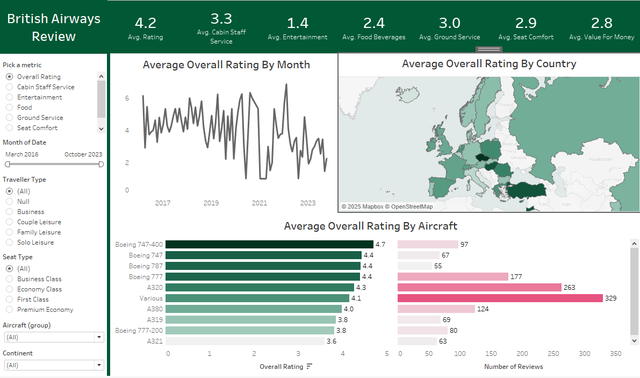

The dashboard page shown, as its layout file describes it:
{"tool":"tableau","page":{"name":"Dashboard 1","canvas":[1200,700],"ordinal":0},"visuals":[{"type":"text","box":[7,0,200,100]},{"type":"worksheet","title":"Summary","mark":"Automatic","box":[207,0,992,100]},{"type":"blank","box":[206,99,6,600]},{"type":"worksheet","title":"Map","mark":"Automatic","box":[637,99,561,295]},{"type":"worksheet","title":"Month","mark":"Automatic","rows":["Calculation_553098373735714816"],"cols":["date"],"box":[224,101,409,291]},{"type":"parameter","param":"[Parameters].[Parameter 1]","box":[8,108,200,144]},{"type":"filter","title":"Map","param":"[federated.1g9hhad0hl09cq17x4x451v04ri1].[tmn:date:qk]","box":[8,252,200,69]},{"type":"filter","title":"Map","param":"[federated.1g9hhad0hl09cq17x4x451v04ri1].[none:traveller_type:nk]","box":[8,321,200,144]},{"type":"worksheet","title":"Aircraft","mark":"Automatic","cols":["Calculation_553098373735714816","ba_reviews.csv_47E9ED6C0392457FB0CF979E640868C3"],"box":[215,401,982,296]},{"type":"filter","title":"Map","param":"[federated.1g9hhad0hl09cq17x4x451v04ri1].[none:seat_type:nk]","box":[8,465,200,127]},{"type":"filter","title":"Map","param":"[federated.1g9hhad0hl09cq17x4x451v04ri1].[Aircraft (group)]","box":[8,592,200,52]},{"type":"filter","title":"Map","param":"[federated.1g9hhad0hl09cq17x4x451v04ri1].[none:Continent:nk]","box":[8,644,200,52]}]}

Visuals, with their boxes in screenshot pixels (x1, y1, x2, y2), scaled from the page's 1200x700 canvas onto the 640x378 screenshot:
text: <region>4, 0, 110, 54</region>
"Summary" worksheet: <region>110, 0, 639, 54</region>
blank: <region>110, 53, 113, 377</region>
"Map" worksheet: <region>340, 53, 639, 213</region>
"Month" worksheet: <region>119, 55, 338, 212</region>
parameter: <region>4, 58, 111, 136</region>
"Map" filter: <region>4, 136, 111, 173</region>
"Map" filter: <region>4, 173, 111, 251</region>
"Aircraft" worksheet: <region>115, 217, 638, 376</region>
"Map" filter: <region>4, 251, 111, 320</region>
"Map" filter: <region>4, 320, 111, 348</region>
"Map" filter: <region>4, 348, 111, 376</region>
